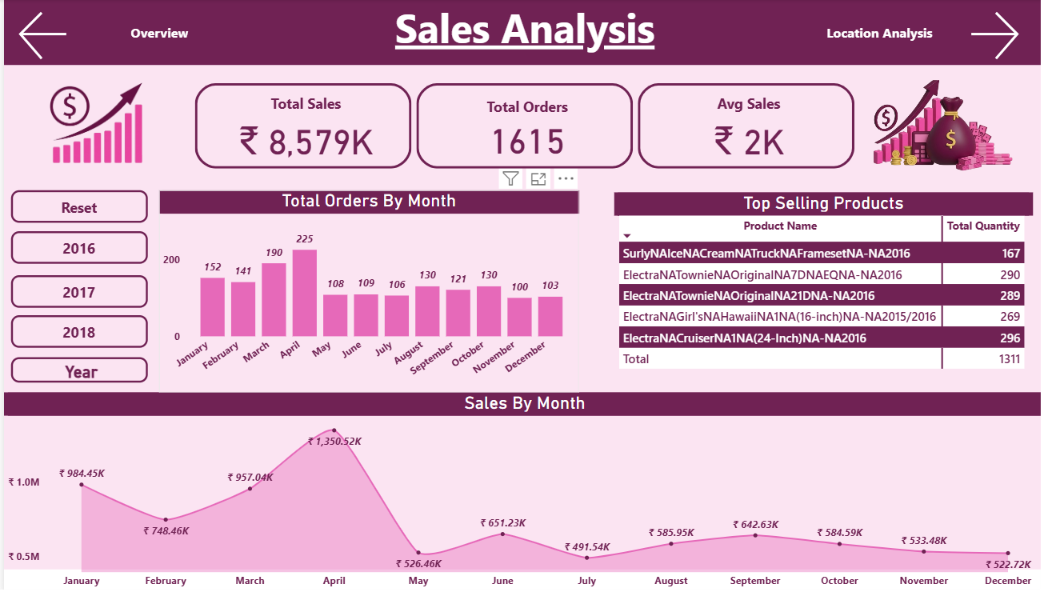

What the dashboard file says about the page in this screenshot:
{"tool":"powerbi","page":{"name":"Sales Analysis","canvas":[1280,733],"ordinal":1},"visuals":[{"type":"shape","box":[0,0,1279.8,80.9],"z":0},{"type":"areaChart","title":"Sales By Month","fields":{"Category":["retail orders.order_date.Variation.Date Hierarchy.Month"],"Y":["Sum(retail order_items.total_price)"]},"box":[0,483,1279.8,250.2],"z":1000},{"type":"clusteredColumnChart","title":"Total Orders By Month","fields":{"Category":["retail orders.order_date.Variation.Date Hierarchy.Month"],"Y":["CountNonNull(retail orders.order_id)"]},"box":[190.6,235.1,516.2,247.7],"z":2000},{"type":"tableEx","title":"Top Selling Products","fields":{"Values":["retail products.product_name","Sum(retail order_items.quantity)"]},"box":[749.2,237,514.6,257.9],"z":3000},{"type":"actionButton","box":[886.2,0,377.2,80.9],"z":4000},{"type":"actionButton","box":[0,0,382.2,80.9],"z":5000},{"type":"cardVisual","fields":{"Data":["Sum(retail order_items.total_price)","Count(retail order_items.order_id)","Avg(retail order_items.total_price)"]},"box":[230,98.8,820,115],"z":6000},{"type":"image","box":[16.2,95,191.2,115],"z":7000},{"type":"image","box":[1023.8,95,256.2,140],"z":8000},{"type":"actionButton","box":[1167.5,8.8,96.2,72.5],"z":9000},{"type":"actionButton","box":[0,8.8,96.2,72.5],"z":10000},{"type":"actionButton","box":[8.7,285.1,168.1,39.8],"z":11000},{"type":"actionButton","box":[8.7,338.6,168.1,39.8],"z":12000},{"type":"actionButton","box":[8.7,388.4,168.1,39.8],"z":13000},{"type":"actionButton","box":[8.7,234,168.1,39.8],"z":14000},{"type":"slicer","title":"Year","fields":{"Values":["retail orders.order_date.Variation.Date Hierarchy.Year"]},"box":[8.7,439.5,168.1,31.1],"z":15000}]}

Visuals, with their boxes in screenshot pixels (x1, y1, x2, y2), scaled from the page's 1280x733 canvas onto the 1041x590 screenshot:
shape: <box>0,0,1040,65</box>
"Sales By Month" areaChart: <box>0,389,1040,589</box>
"Total Orders By Month" clusteredColumnChart: <box>155,189,575,389</box>
"Top Selling Products" tableEx: <box>609,191,1028,398</box>
actionButton: <box>721,0,1027,65</box>
actionButton: <box>0,0,311,65</box>
cardVisual - Sum(retail order_items.total_price) x Count(retail order_items.order_id): <box>187,80,854,172</box>
image: <box>13,76,169,169</box>
image: <box>833,76,1040,189</box>
actionButton: <box>950,7,1028,65</box>
actionButton: <box>0,7,78,65</box>
actionButton: <box>7,229,144,262</box>
actionButton: <box>7,273,144,305</box>
actionButton: <box>7,313,144,345</box>
actionButton: <box>7,188,144,220</box>
"Year" slicer: <box>7,354,144,379</box>
